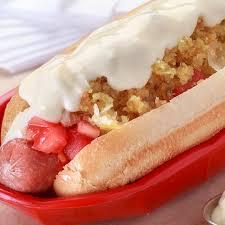Completos: (2, 0, 225, 207)
